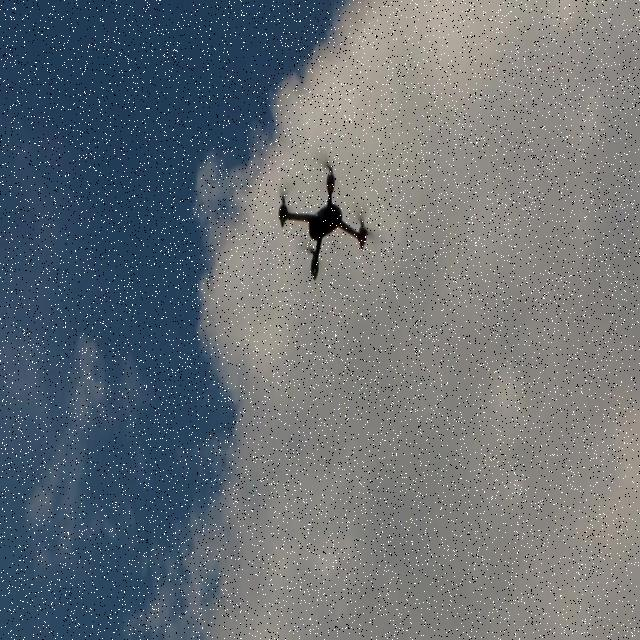UAV: (277, 161, 371, 283)
